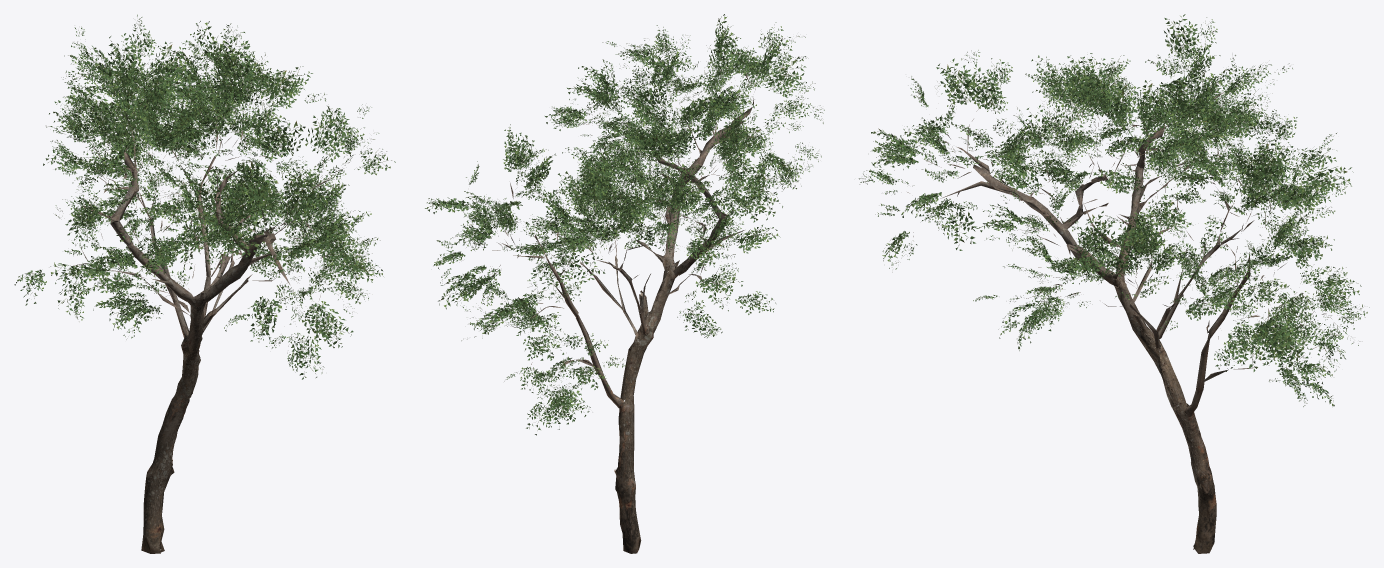
The model's file is tree_small_02.glb.
3 renders of one model, left to right at view 1: azimuth 30°, elevation 25°; view 2: azimuth 150°, elevation 25°; view 3: azimuth 270°, elevation 25°, orthographic. The views are drawn at different scales.
Visible parts, largest first — view 1: tree_small_02_LOD0; view 2: tree_small_02_LOD0; view 3: tree_small_02_LOD0.
Boxes of the visible parts, x1,y1,x2,y2 form: tree_small_02_LOD0: (14, 14, 395, 553); tree_small_02_LOD0: (425, 14, 824, 553); tree_small_02_LOD0: (859, 14, 1369, 553).
Size of the model in its own units: 2.91 by 4.56 by 4.28.
Materials: 3 (3 with a texture image).
